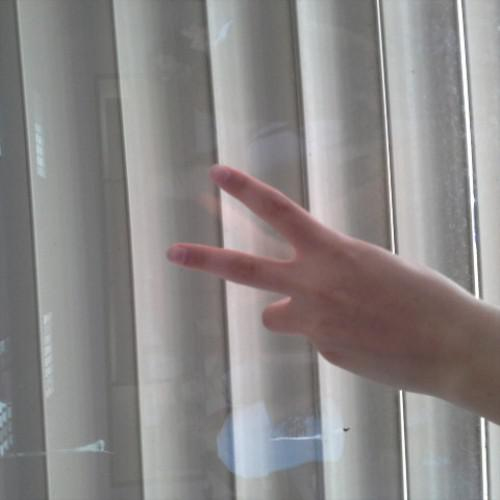scissors: (164, 149, 456, 410)
